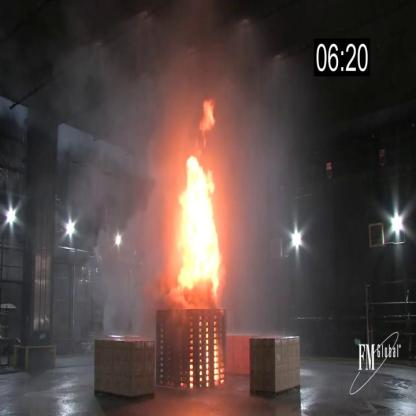fire: (171, 153, 224, 305), (197, 95, 220, 142)
